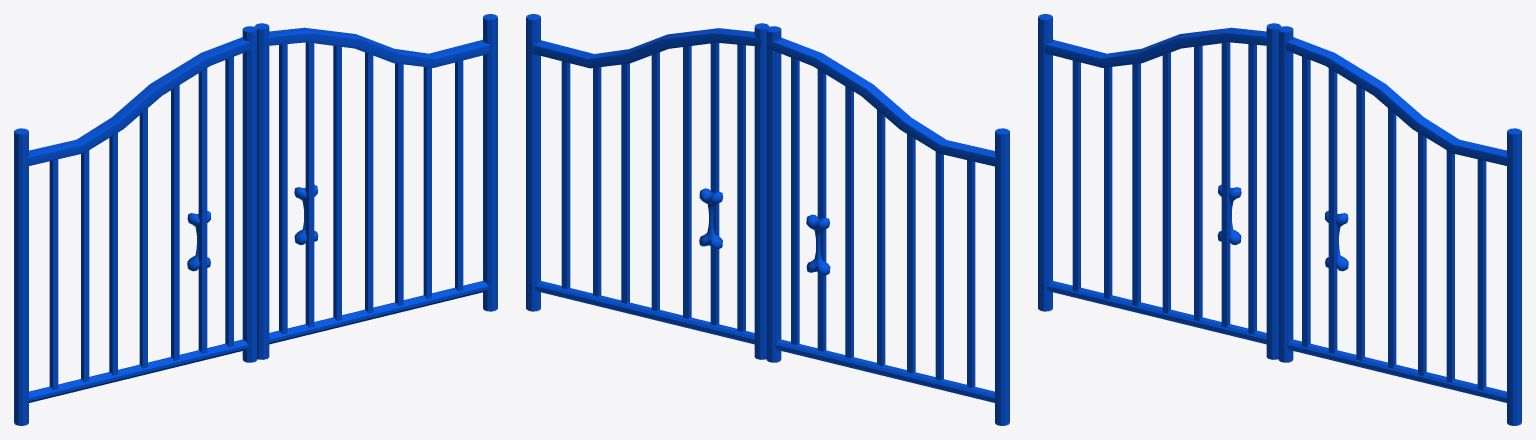
File: FrontGateGates.fbx
3 views of the same model, side by side, from view 1: azimuth 30°, elevation 25°; view 2: azimuth 150°, elevation 25°; view 3: azimuth 330°, elevation 25° (orthographic).
Visible parts, largest first — view 1: Gate2, Gate3; view 2: Gate2, Gate3; view 3: Gate3, Gate2.
Boxes of the visible parts, left/top/right/bottom form: Gate2: left=14, top=26, right=257, bottom=425; Gate3: left=254, top=14, right=497, bottom=359; Gate2: left=766, top=26, right=1009, bottom=425; Gate3: left=526, top=14, right=769, bottom=359; Gate3: left=1278, top=26, right=1521, bottom=425; Gate2: left=1038, top=14, right=1281, bottom=359.
Bounding box in the file's own units: 5.47 × 3.67 × 0.2132.
